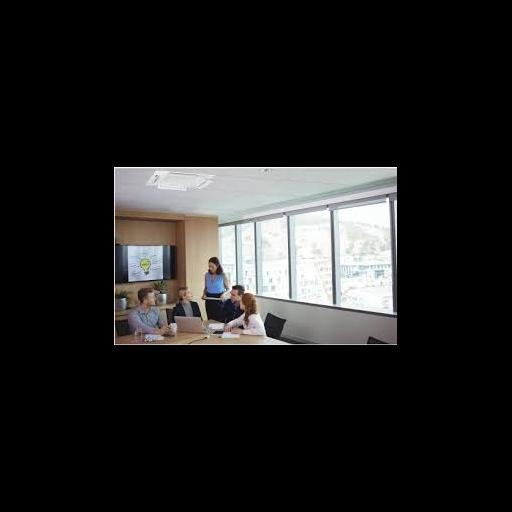4-way-ac: (147, 171, 216, 191)
